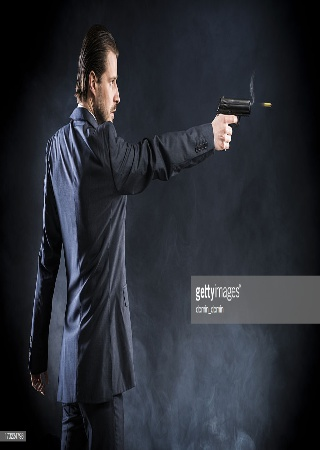handgun: (216, 94, 255, 121)
